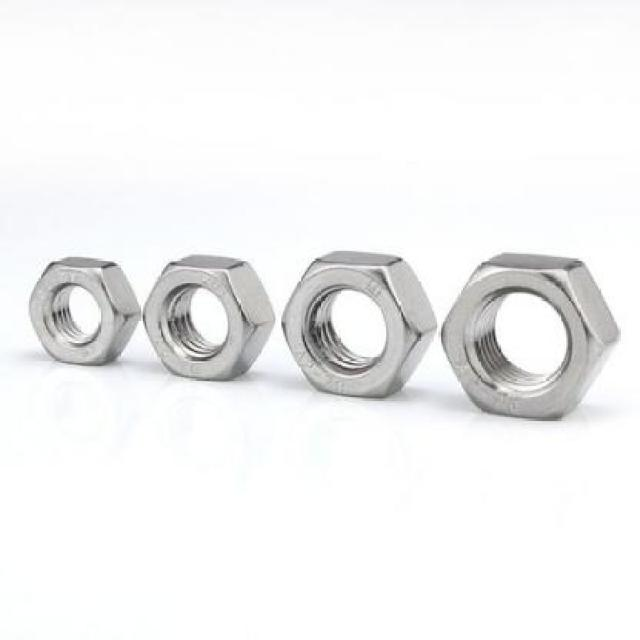Nut: (437, 248, 625, 423), (277, 249, 441, 402), (139, 250, 279, 384), (26, 252, 140, 368)
